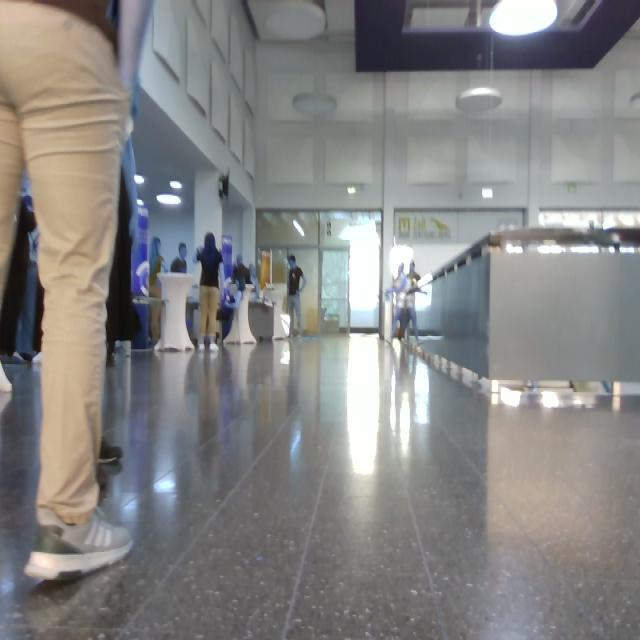desk: (155, 273, 194, 352), (226, 286, 257, 342)
door: (321, 212, 381, 332)
light bulb: (490, 1, 557, 36), (457, 88, 502, 113), (293, 93, 337, 117), (294, 220, 305, 237), (135, 174, 145, 185), (171, 181, 182, 190)
person: (1, 1, 133, 578), (198, 233, 222, 349), (290, 256, 306, 336), (150, 237, 166, 301), (150, 304, 160, 345)
staircase: (419, 228, 640, 394)
tiled floor: (1, 337, 640, 640)
